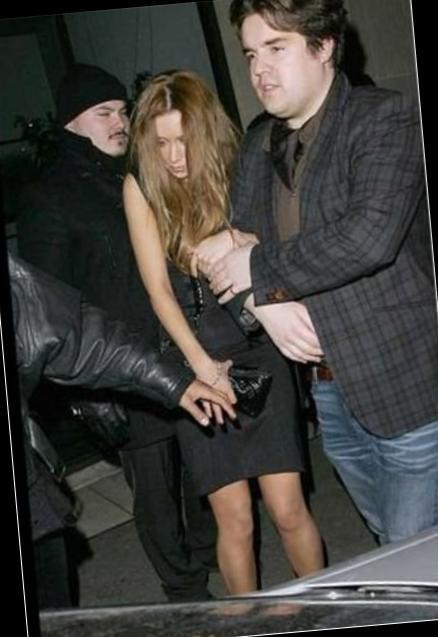Drunk: (238, 15, 322, 116), (153, 107, 199, 178), (92, 100, 130, 158)
